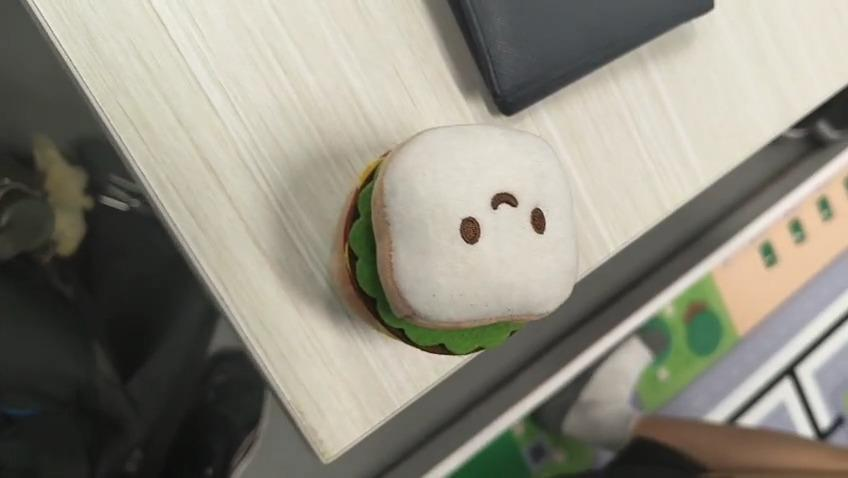objects: (341, 124, 579, 355)
